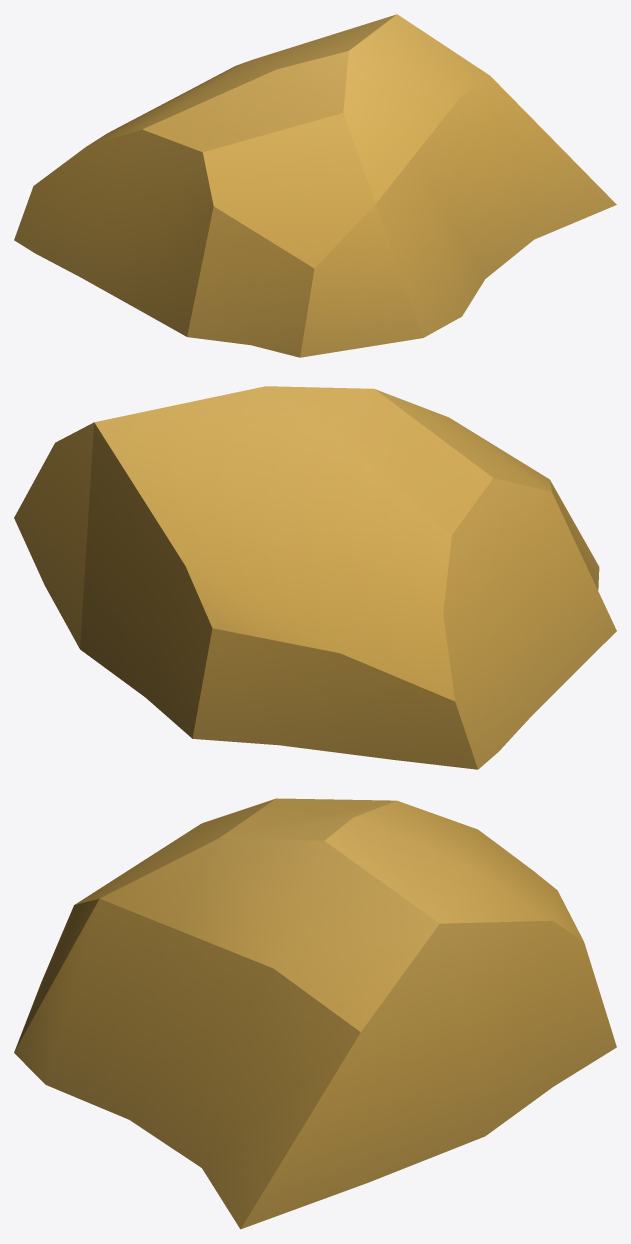
The model's file is Forest_Stone_003.FBX.
3 views of the same model, one above another, from view 1: azimuth 30°, elevation 25°; view 2: azimuth 150°, elevation 25°; view 3: azimuth 270°, elevation 25° (orthographic). The views are drawn at different scales.
Visible parts, largest first — view 1: Forest_Stone_003; view 2: Forest_Stone_003; view 3: Forest_Stone_003.
Part boxes in pixels (box(x1,y1,x2,y2)): Forest_Stone_003: box(14, 14, 616, 357); Forest_Stone_003: box(14, 386, 616, 769); Forest_Stone_003: box(14, 798, 616, 1229).
Bounding box in the file's own units: 415 × 152 × 345.
1 material, 1 textured.
